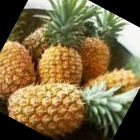Pineapple: (7, 78, 138, 135), (39, 1, 83, 89)
